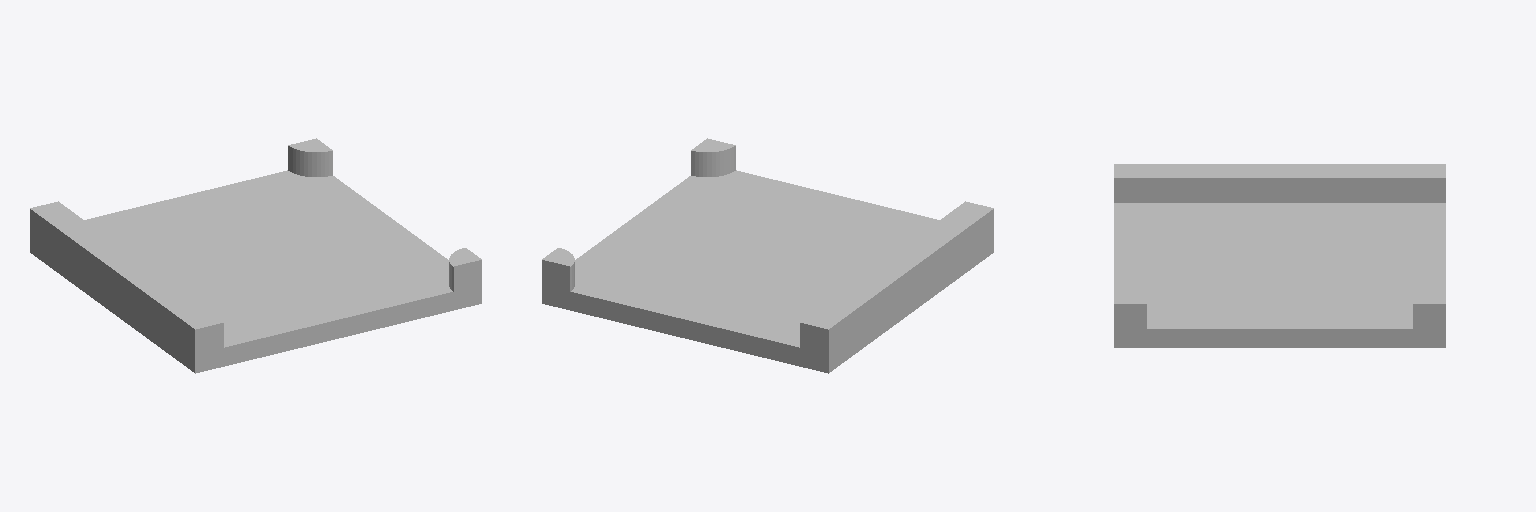
Rendered from T_split_01.obj.
3 views of the same model, side by side, from view 1: azimuth 30°, elevation 25°; view 2: azimuth 150°, elevation 25°; view 3: azimuth 270°, elevation 25° (orthographic).
Visible parts, largest first — view 1: Mesh1 T_split Model; view 2: Mesh1 T_split Model; view 3: Mesh1 T_split Model.
Boxes of the visible parts, box(x1,y1,x2,y2) form: Mesh1 T_split Model: box(30, 138, 481, 373); Mesh1 T_split Model: box(542, 138, 993, 373); Mesh1 T_split Model: box(1114, 164, 1445, 347).
Size of the model in its own units: 3 by 0.44 by 3.